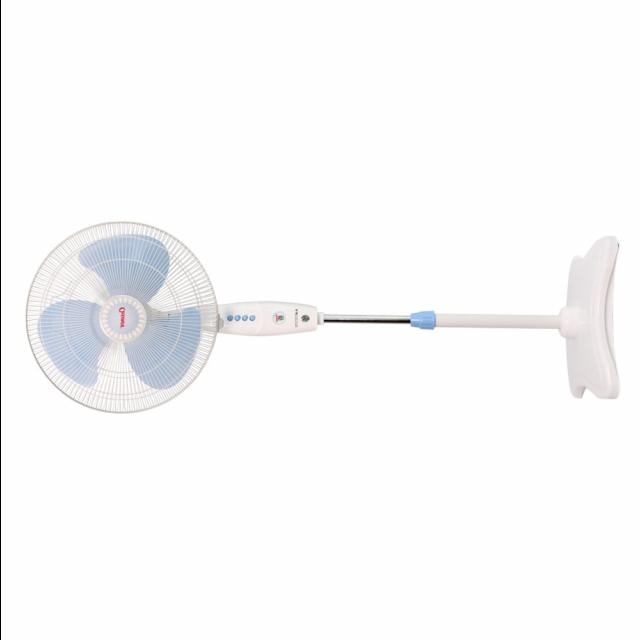fan: (16, 222, 622, 412)
